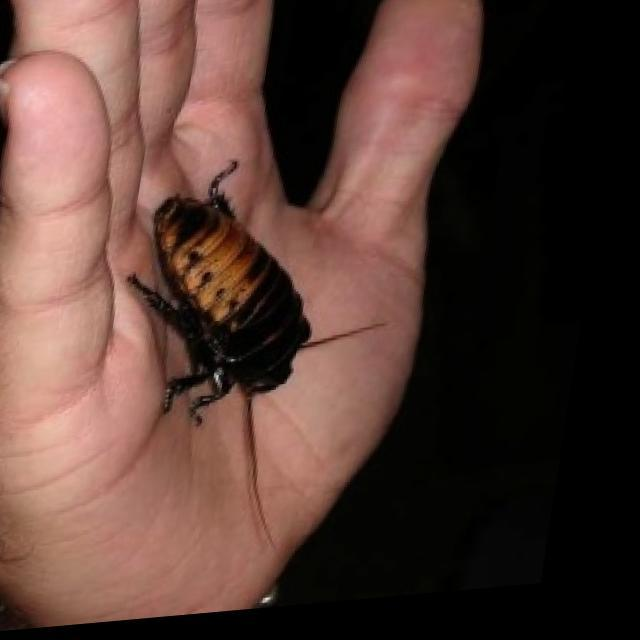cockroach: (103, 150, 350, 470)
